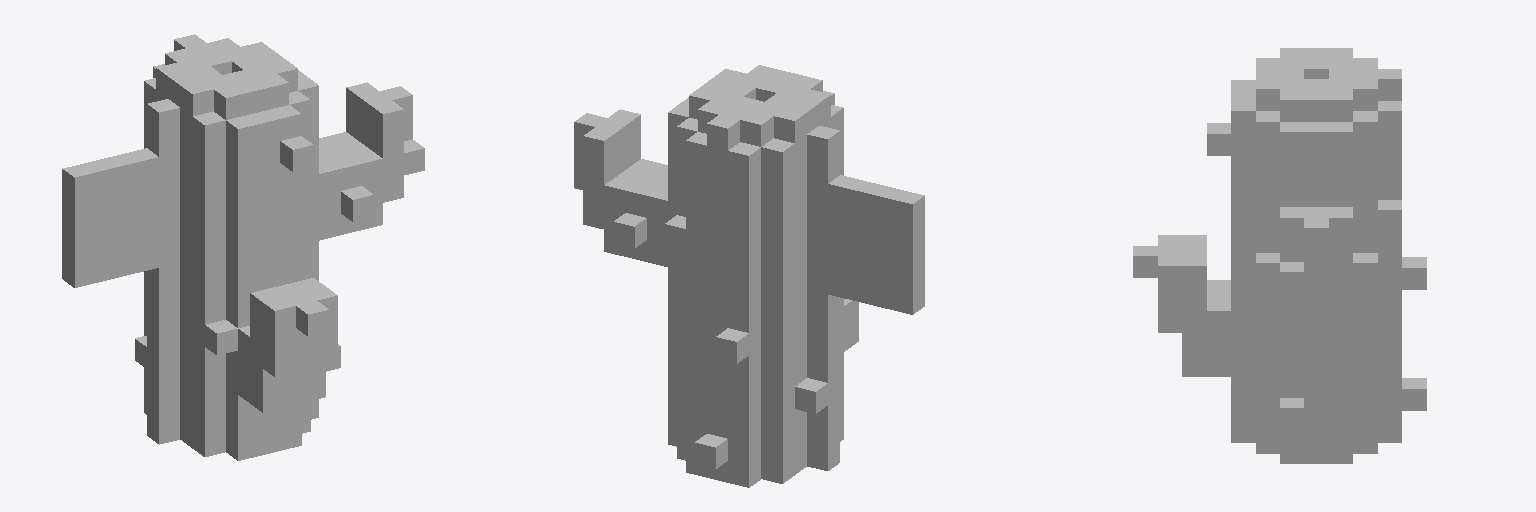
File: cactus.obj
3 views of the same model, side by side, from view 1: azimuth 30°, elevation 25°; view 2: azimuth 150°, elevation 25°; view 3: azimuth 270°, elevation 25° (orthographic).
Visible parts, largest first — view 1: object 1; view 2: object 1; view 3: object 1.
Part boxes in pixels (bbox=[...]): object 1: bbox=[62, 34, 424, 460]; object 1: bbox=[574, 65, 924, 487]; object 1: bbox=[1133, 48, 1426, 463].
Bounding box in the file's own units: 1.6 × 1.6 × 1.2.